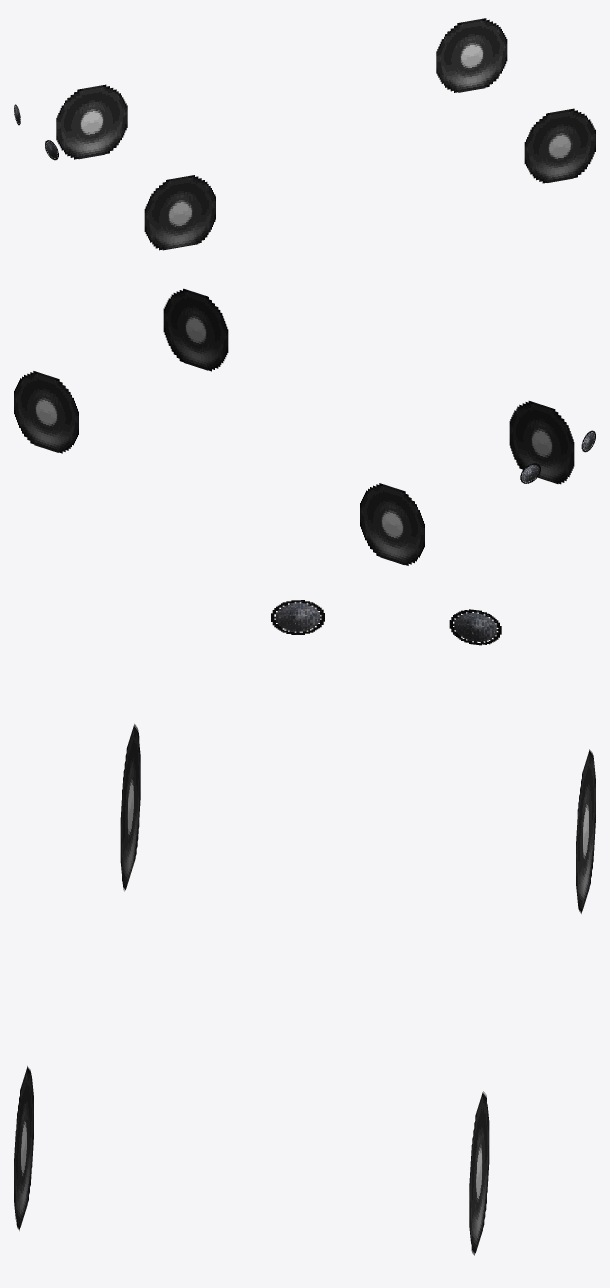
File: streets_car_secondary_1.glb
3 renders of one model, top to bottom at view 1: azimuth 30°, elevation 25°; view 2: azimuth 150°, elevation 25°; view 3: azimuth 270°, elevation 25°, orthographic. The views are drawn at different scales.
Parts seen in each view (by area): view 1: Object; view 2: Object; view 3: Object.
Part boxes in pixels (x1,y1,x2,y2): Object: [14, 18, 595, 250]; Object: [14, 288, 595, 565]; Object: [14, 600, 595, 1255].
Bounding box in the file's own units: 4.56 × 0.8396 × 2.32.
6 materials, 6 textured.
